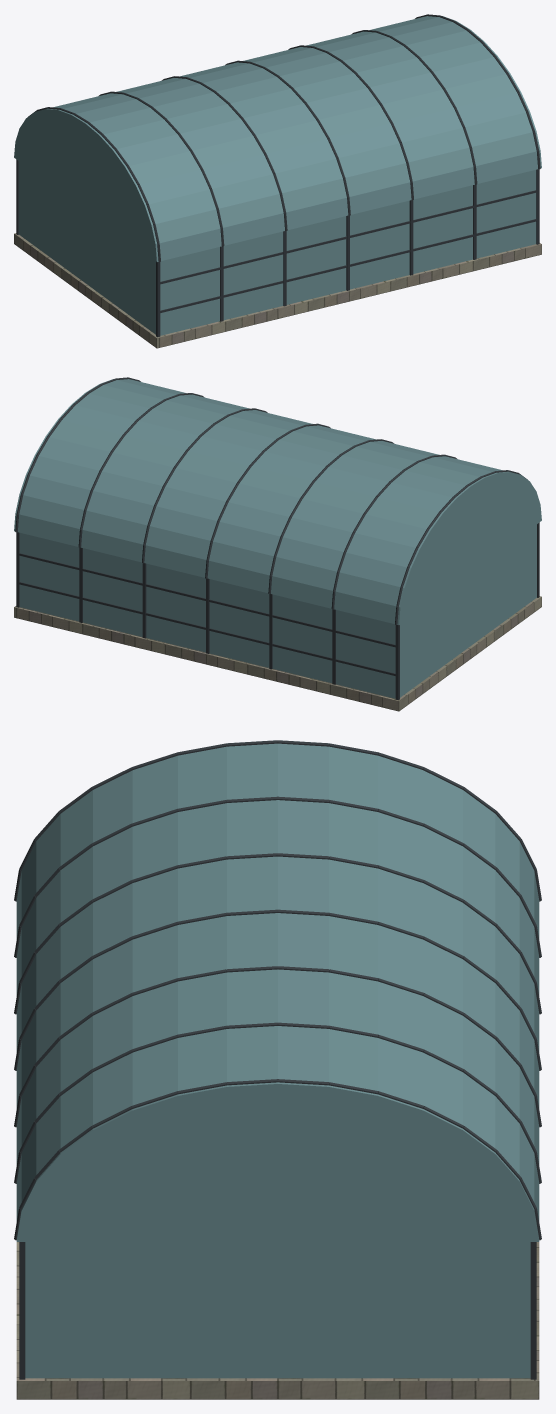
File: Furn_Greenhouse.fbx
3 views of the same model, one above another, from view 1: azimuth 30°, elevation 25°; view 2: azimuth 150°, elevation 25°; view 3: azimuth 270°, elevation 25° (orthographic). The views are drawn at different scales.
Visible parts, largest first — view 1: Furn_Greenhouse_Mesh; view 2: Furn_Greenhouse_Mesh; view 3: Furn_Greenhouse_Mesh.
Boxes of the visible parts, bbox=[...] form: Furn_Greenhouse_Mesh: bbox=[14, 14, 541, 348]; Furn_Greenhouse_Mesh: bbox=[14, 377, 541, 711]; Furn_Greenhouse_Mesh: bbox=[14, 740, 541, 1399].
Size of the model in its own units: 14 by 6.04 by 9.09.
